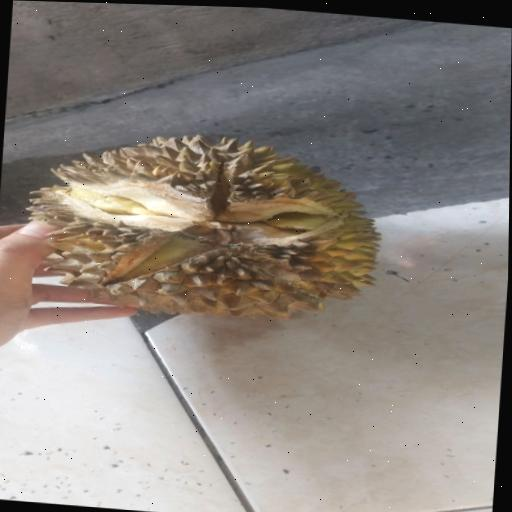rot: (0, 106, 428, 360)
